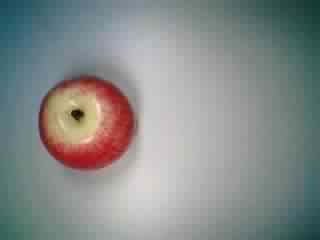apple: (37, 74, 144, 178)
